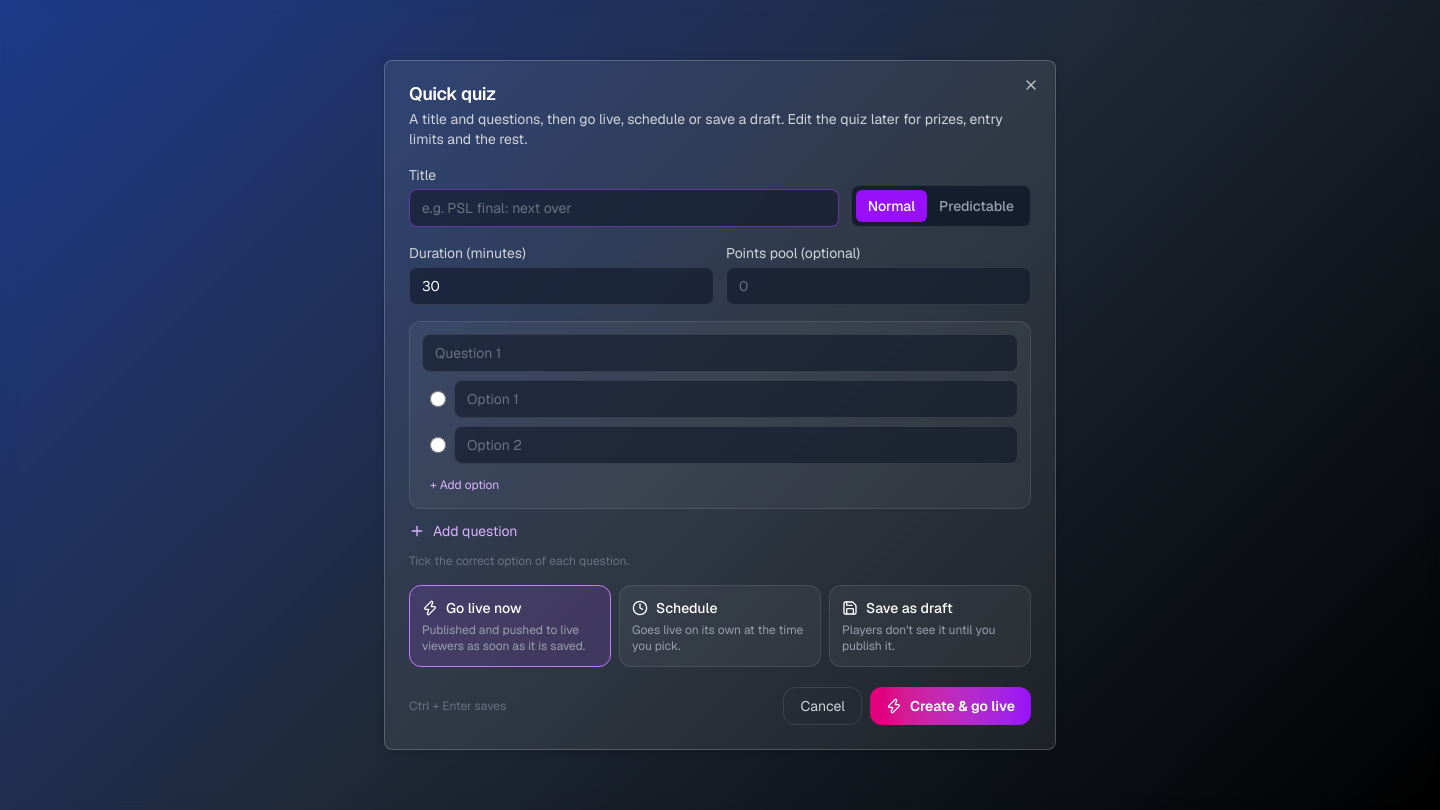
Test: Quick quiz panel › keeps the panel open with the reason when the quiz is refused or saving fails
The image size is (1440, 810).
Type "  PSL final  " into the field labelled "Title" at (624, 208), box 409,189 -> 839,227
Type "Who wins the toss?" into the field labelled "Question 1" at (720, 353), box 422,334 -> 1018,372
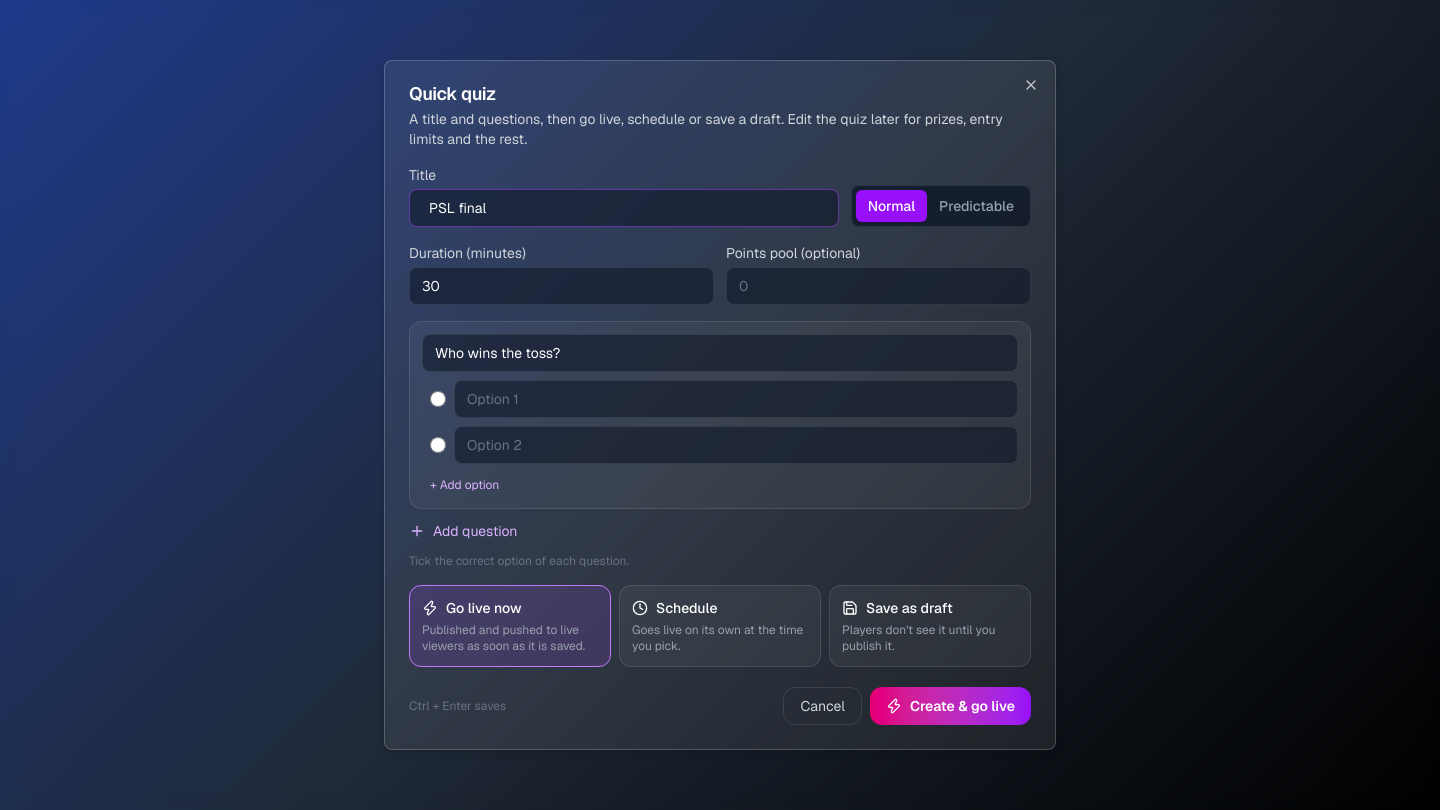
Type "Lahore" into the field named "Question 1, option 1" at (736, 399), box 454,380 -> 1018,418
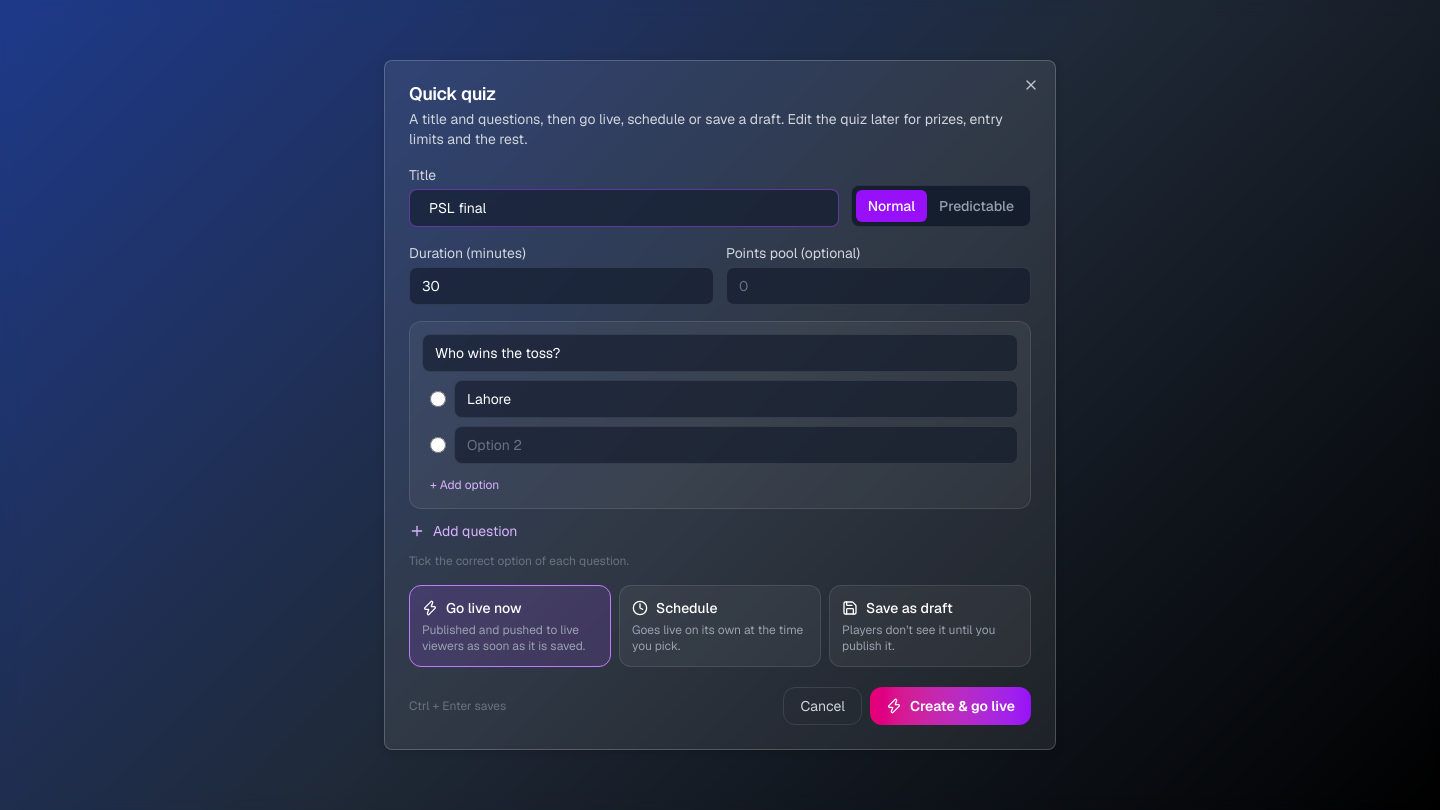
Type "Karachi" into the field named "Question 1, option 2" at (736, 445), box 454,426 -> 1018,464
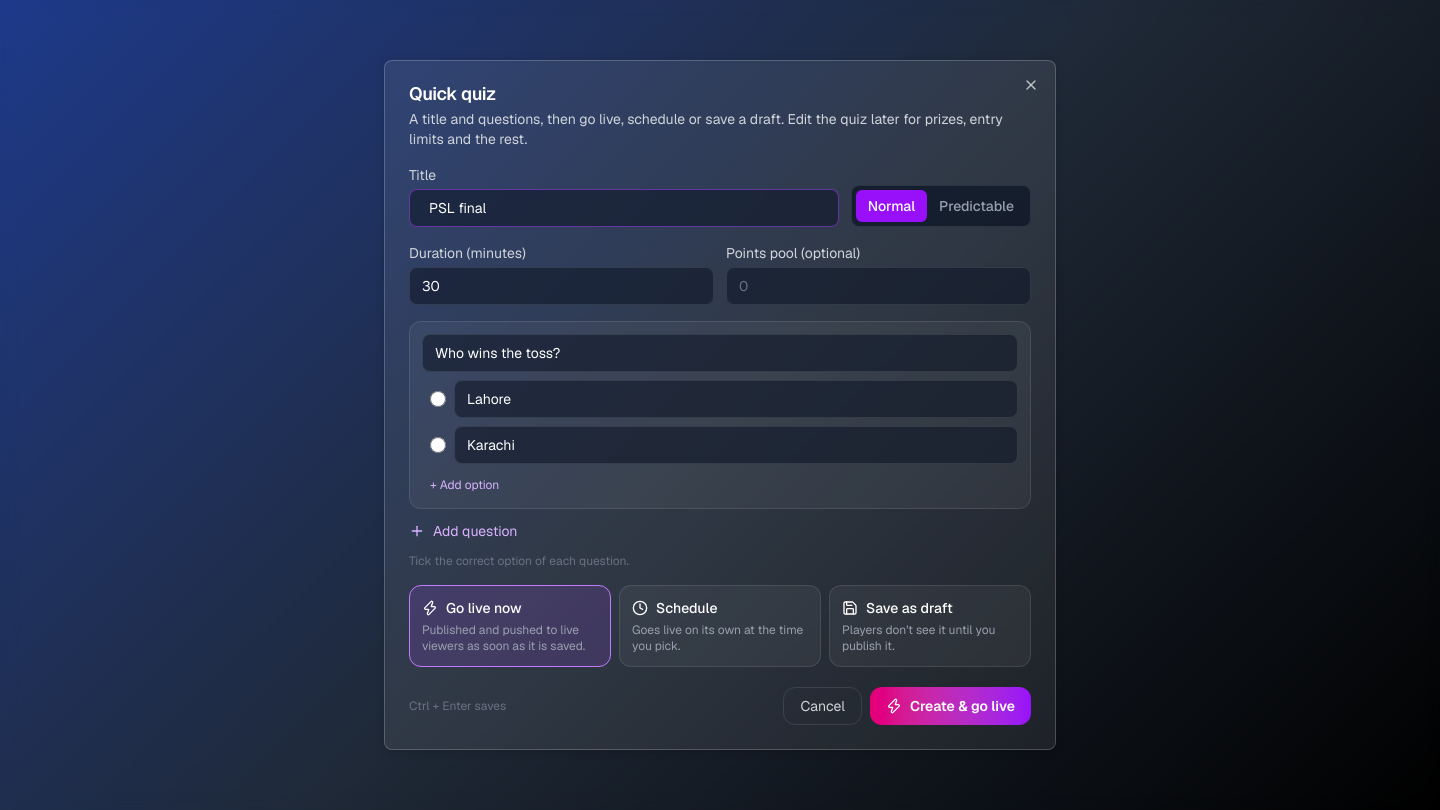
Click the radio button named "Option 2 of question 1 is correct" at (438, 445), box 430,437 -> 446,453
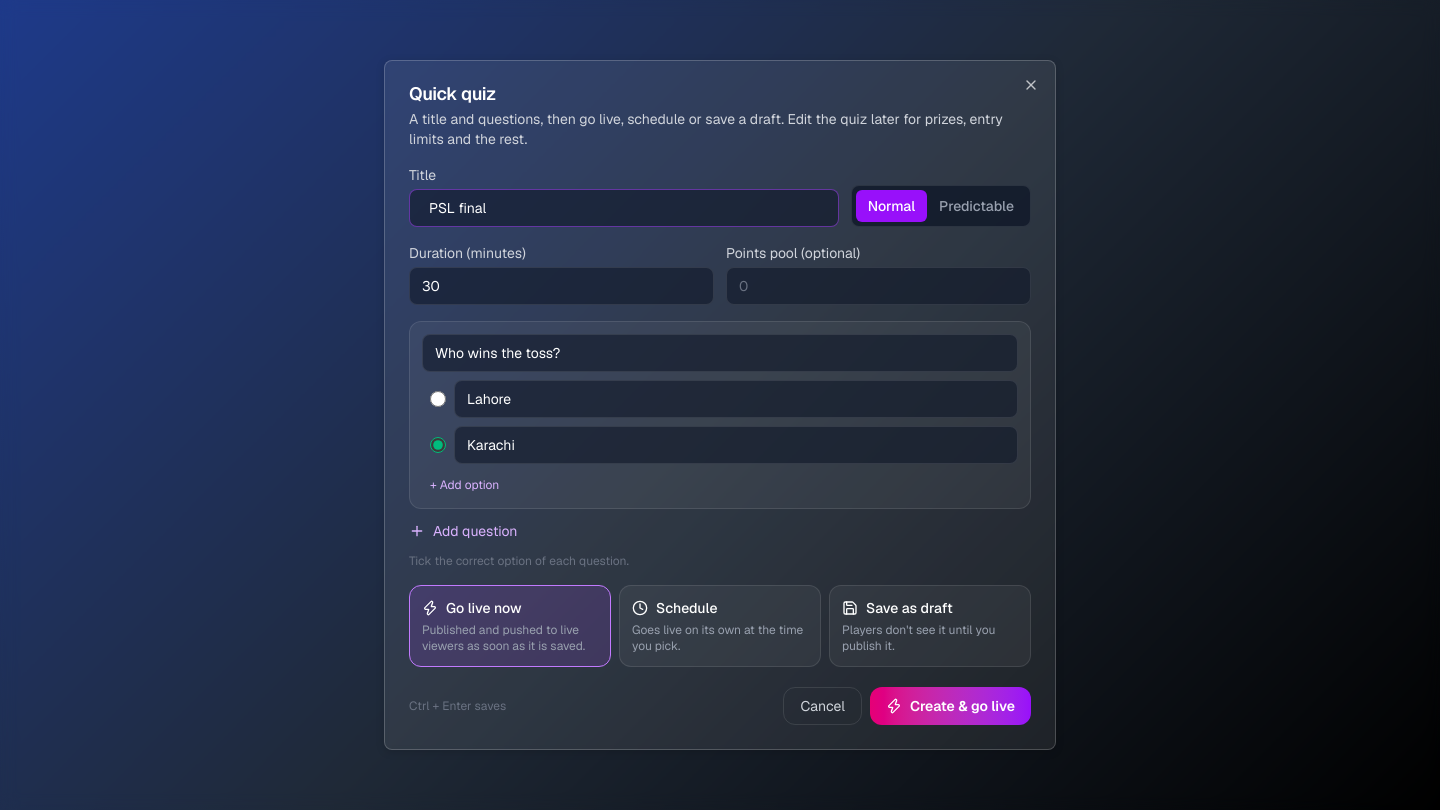
Click the button "Create & go live" at (950, 706), box 870,687 -> 1031,725
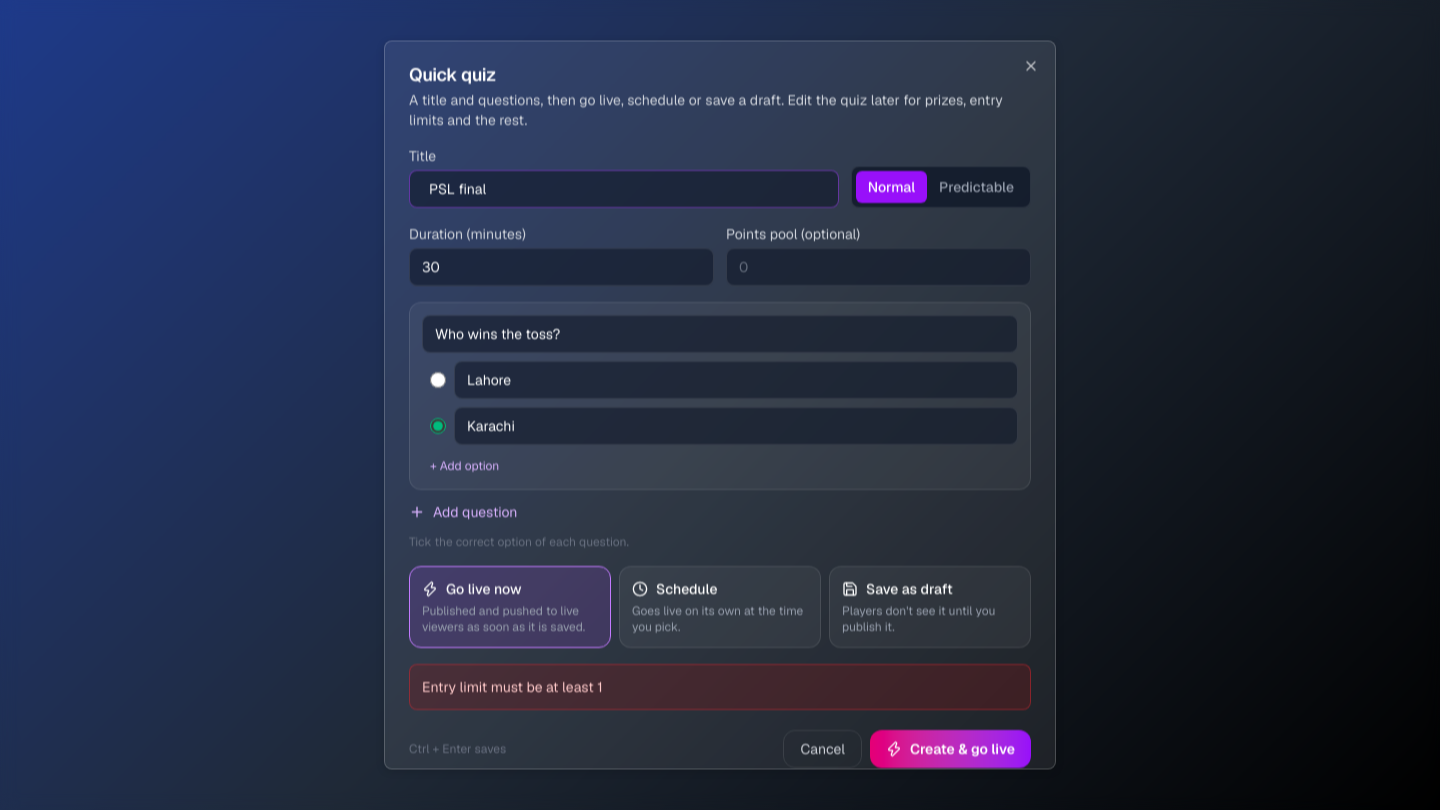
Expected: the message reads "Entry limit must be at least 1", 422,678 -> 602,696
Click the button "Create & go live" at (950, 748), box 870,730 -> 1031,768
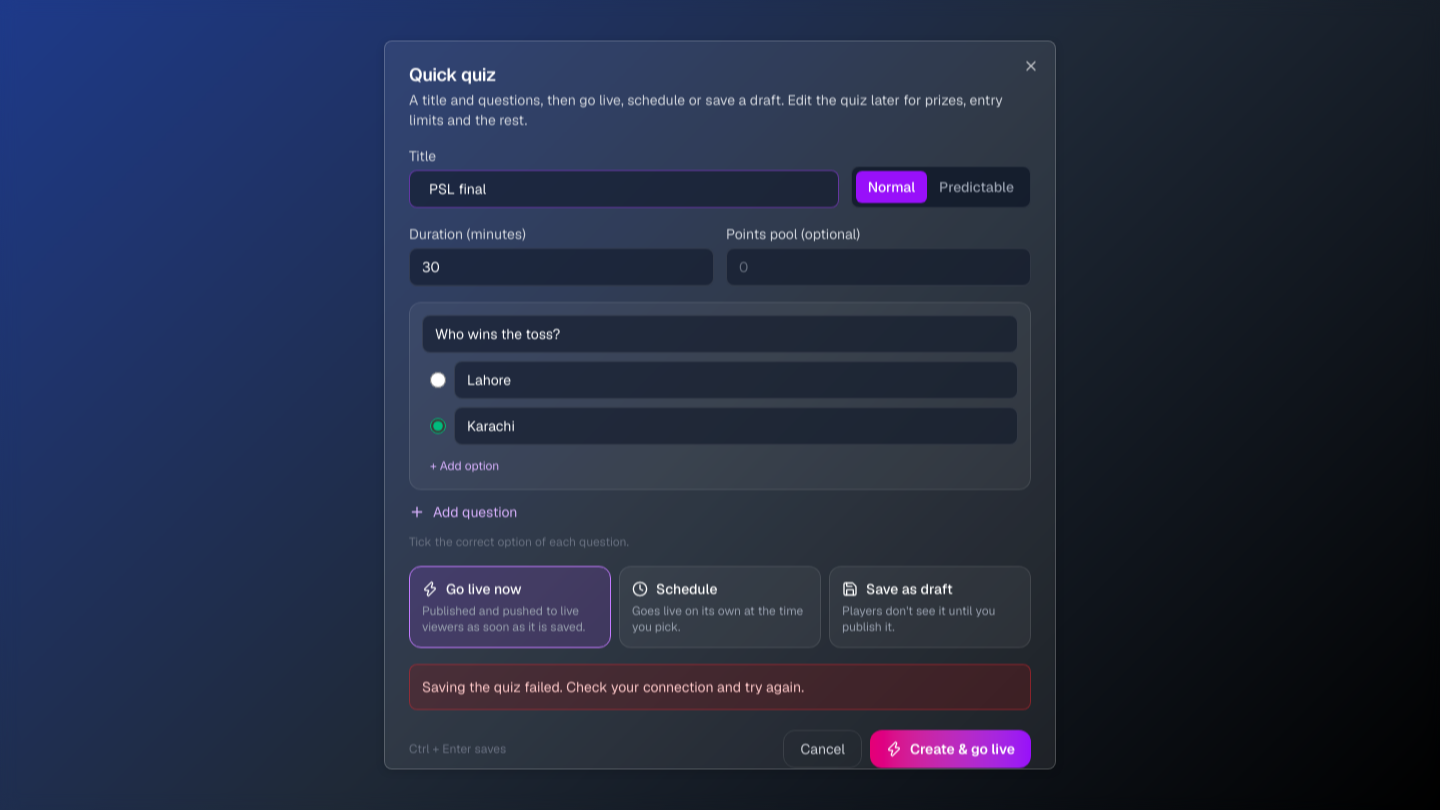
Expected: the message reads "Saving the quiz failed. Check your connection and try again.", 422,678 -> 804,696
